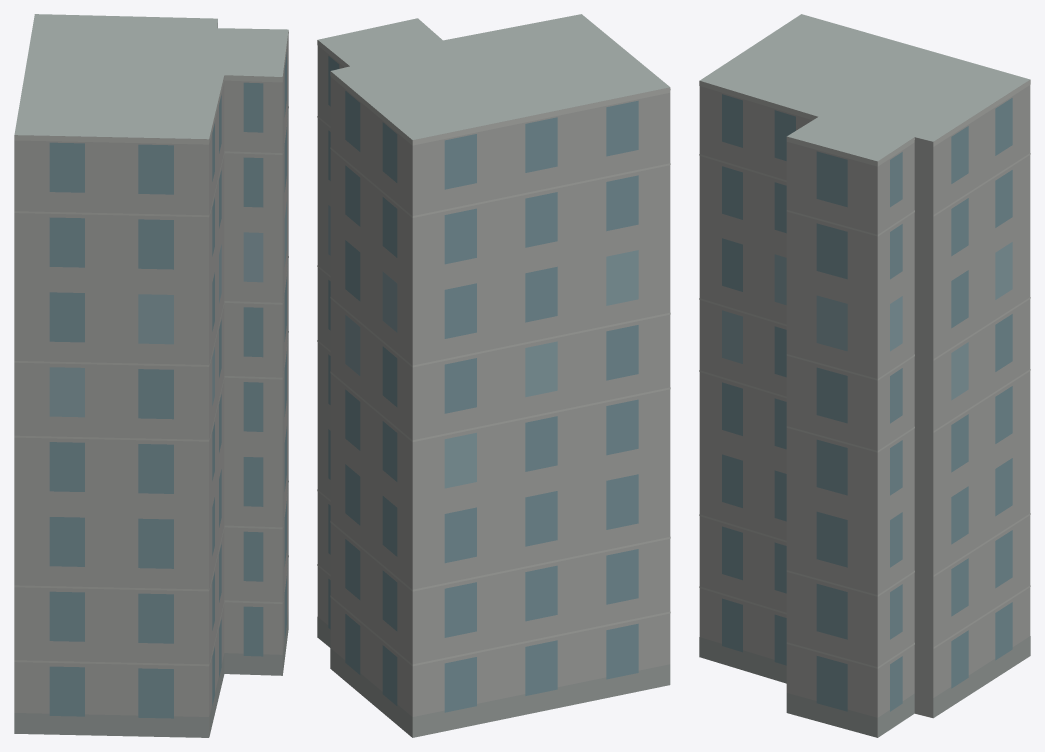
The model's file is survey-upis-32949491.glb.
The picture shows the model from 3 angles, left to right: view 1: azimuth 30°, elevation 25°; view 2: azimuth 150°, elevation 25°; view 3: azimuth 270°, elevation 25°; orthographic projection. The views are drawn at different scales.
Visible parts, largest first — view 1: survey-upis-32949491.tmp; view 2: survey-upis-32949491.tmp; view 3: survey-upis-32949491.tmp.
Boxes of the visible parts, x1=… form: survey-upis-32949491.tmp: x1=14, y1=14, x2=288, y2=737; survey-upis-32949491.tmp: x1=317, y1=14, x2=670, y2=737; survey-upis-32949491.tmp: x1=699, y1=14, x2=1030, y2=737.
Size of the model in its own units: 14.78 by 26.9 by 14.02.
